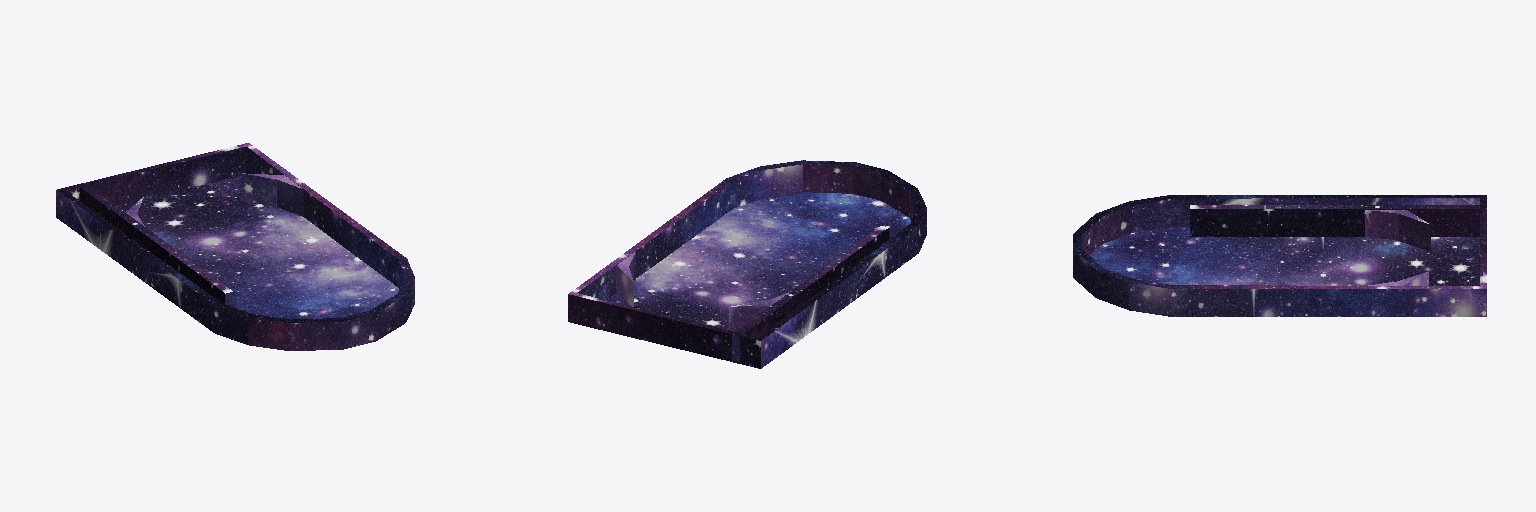
3 views of the same model, side by side, from view 1: azimuth 30°, elevation 25°; view 2: azimuth 150°, elevation 25°; view 3: azimuth 270°, elevation 25° (orthographic).
Visible parts, largest first — view 1: Cube.002; view 2: Cube.002; view 3: Cube.002.
Boxes of the visible parts, box(x1,y1,x2,y2) form: Cube.002: box(56, 143, 414, 350); Cube.002: box(568, 160, 926, 368); Cube.002: box(1073, 195, 1486, 316).
Size of the model in its own units: 14.32 by 2 by 26.66.
1 materials, 1 textured.